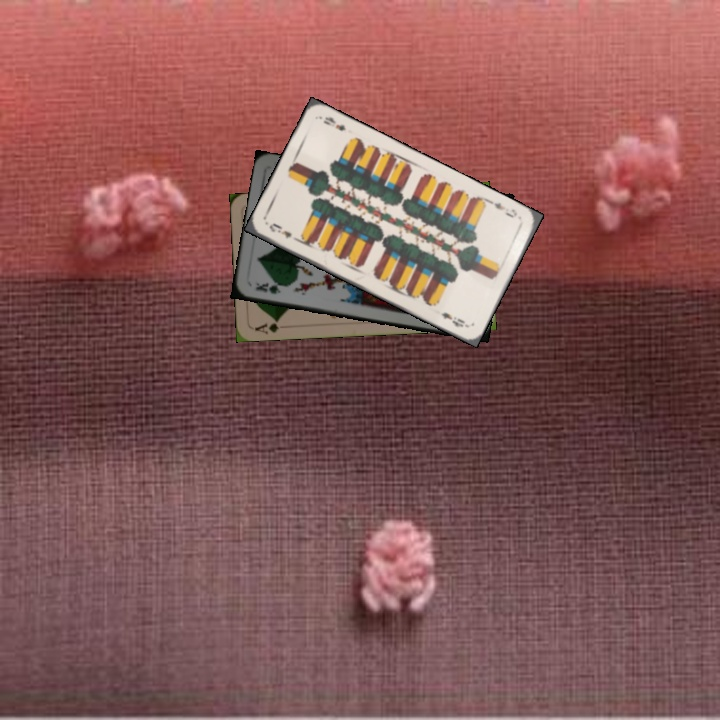E9: (265, 219, 301, 244), (486, 197, 520, 220)
GA: (251, 316, 282, 336)
GK: (252, 278, 289, 297)
